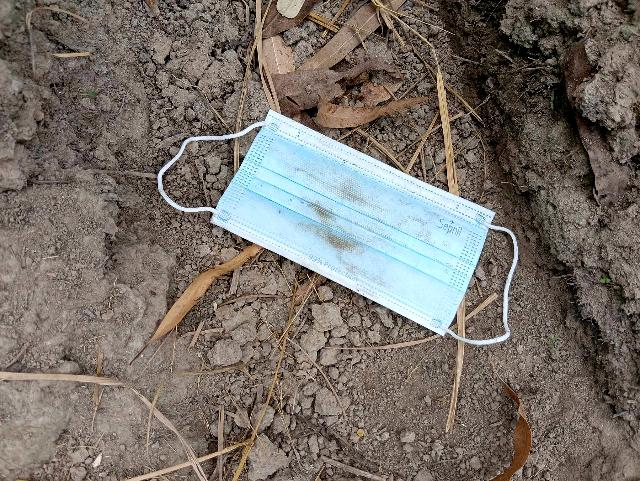mask: (157, 82, 575, 381)
